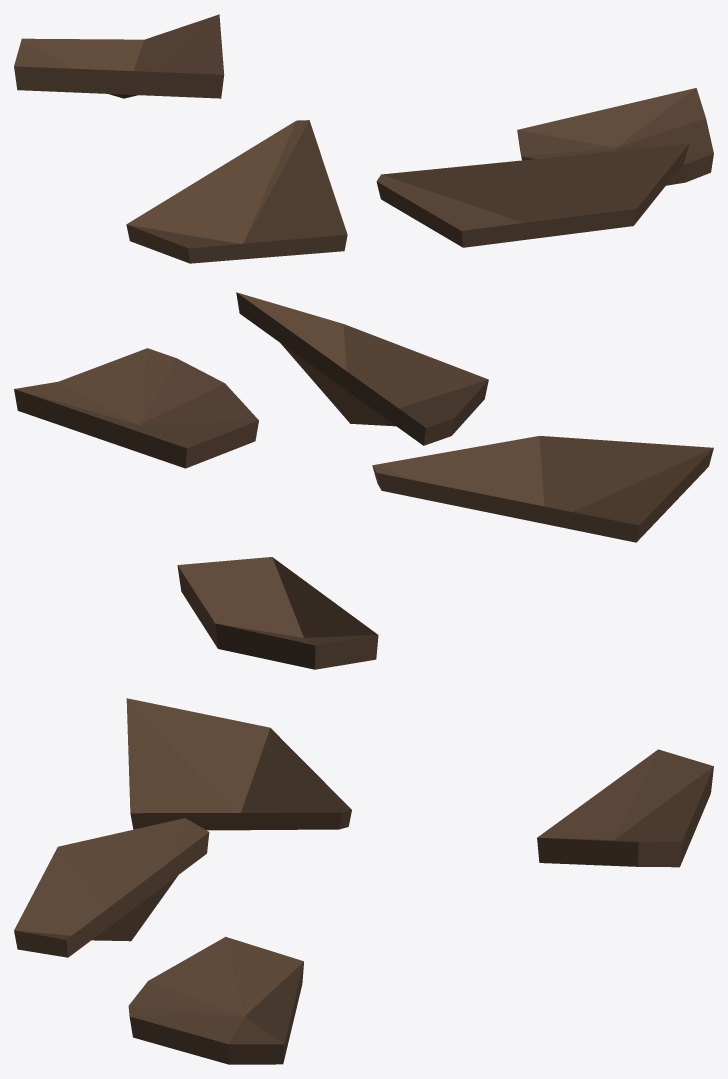
File: desert_debris_2.glb
The picture shows the model from 3 angles, top to bottom: view 1: azimuth 30°, elevation 25°; view 2: azimuth 150°, elevation 25°; view 3: azimuth 270°, elevation 25°; orthographic projection. The views are drawn at different scales.
Parts seen in each view (by area): view 1: DesertDebris_Plates; view 2: DesertDebris_Plates; view 3: DesertDebris_Plates.
Boxes of the visible parts, x1,y1,x2,y2 form: DesertDebris_Plates: (14,14,713,263); DesertDebris_Plates: (14,292,713,669); DesertDebris_Plates: (14,698,713,1064).
Size of what is drawn, in the model's own units: 0.7566 by 0.0886 by 0.7243.
